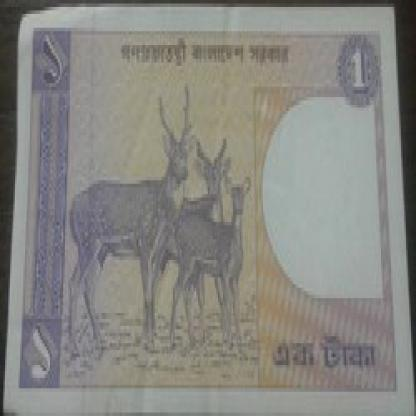One Taka: (268, 329, 379, 378), (23, 322, 57, 385), (35, 31, 67, 90), (346, 45, 375, 94)
